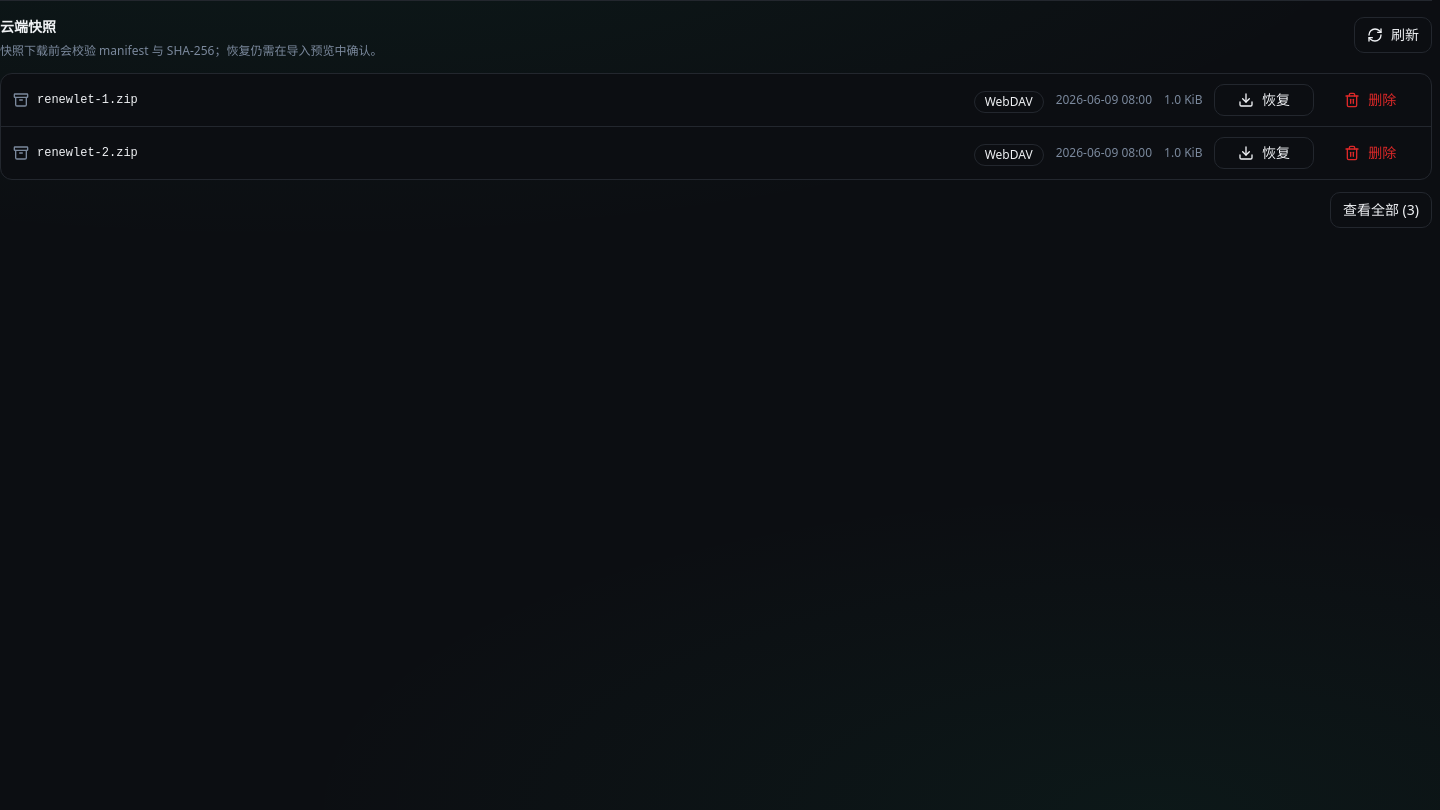
CloudBackupSnapshotList › shows only two snapshot rows on the settings page and opens all rows on demand
Expected: the text "renewlet-1.zip" is shown, [37,92,138,108]
Expected: the text "renewlet-2.zip" is shown, [37,145,138,161]
Click the button "查看全部 (3)".
click(1381, 210)  # box [1330,192,1432,228]
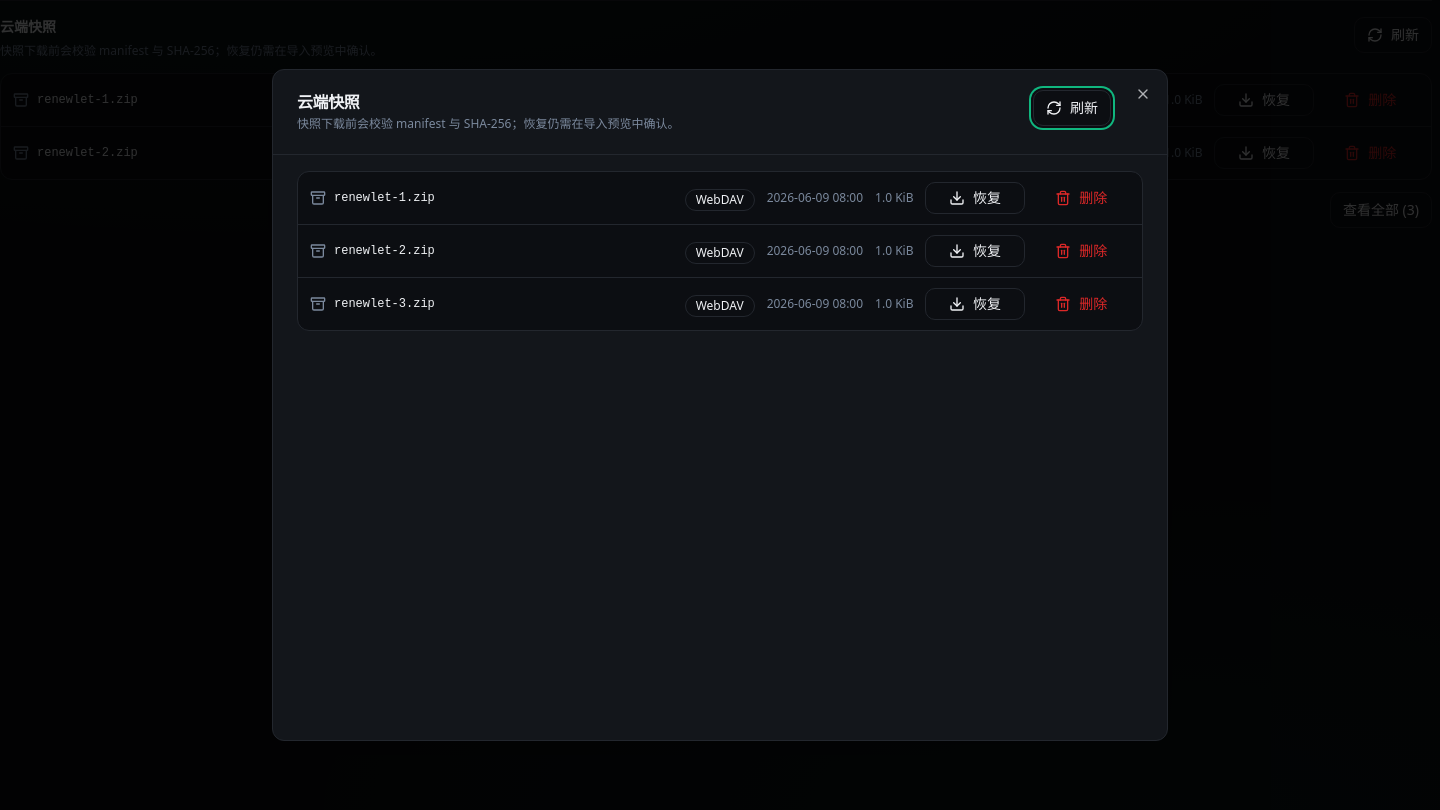
Expected: the dialog "云端快照" is shown, [272,69,1168,741]
Expected: the text "renewlet-1.zip" is shown, [334,190,435,206]
Expected: the text "renewlet-2.zip" is shown, [334,243,435,259]
